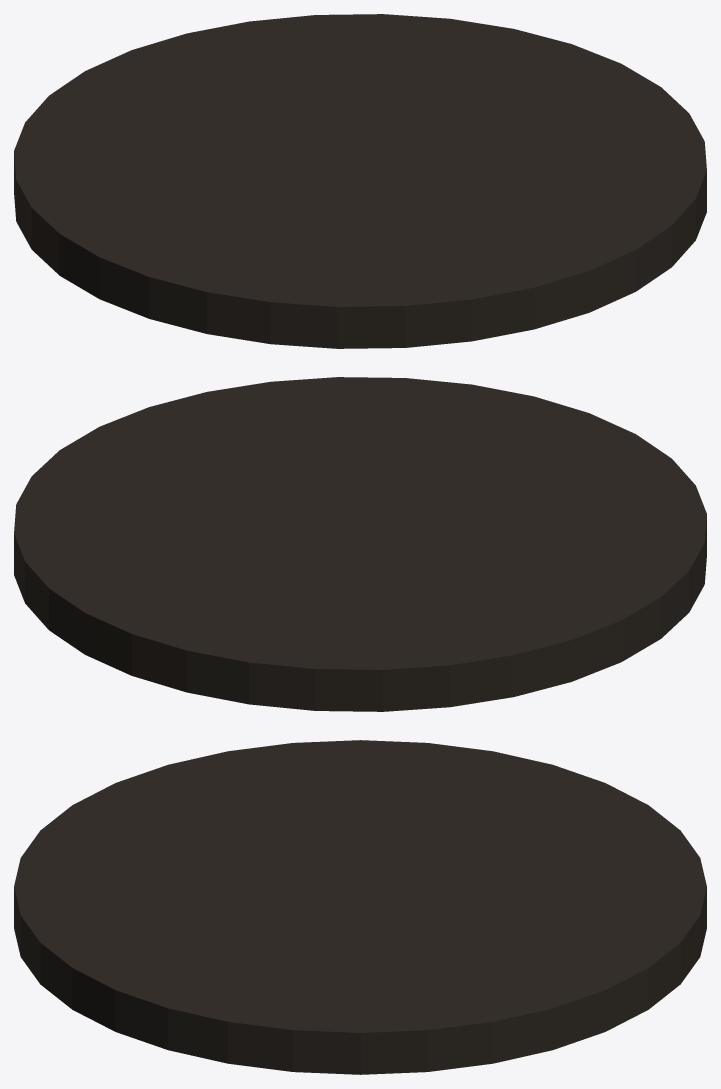
File: black_chess.obj
3 views of the same model, one above another, from view 1: azimuth 30°, elevation 25°; view 2: azimuth 150°, elevation 25°; view 3: azimuth 270°, elevation 25° (orthographic).
Visible parts, largest first — view 1: BlackChess_材質.001; view 2: BlackChess_材質.001; view 3: BlackChess_材質.001.
Part boxes in pixels (box(x1,y1,x2,y2)): BlackChess_材質.001: box(14, 14, 706, 348); BlackChess_材質.001: box(14, 377, 706, 711); BlackChess_材質.001: box(14, 740, 706, 1074).
Bounding box in the file's own units: 0.15 × 0.01 × 0.15.
1 material, 1 textured.
